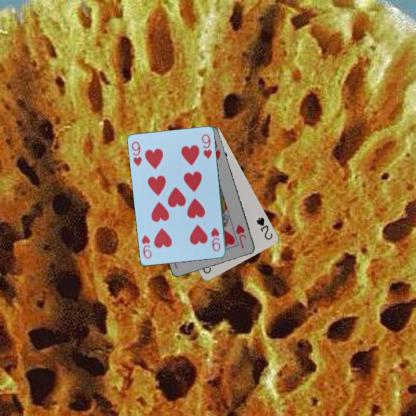2s: (254, 215, 274, 241)
9h: (129, 139, 143, 168), (208, 225, 222, 252)
Jh: (233, 222, 248, 249)
